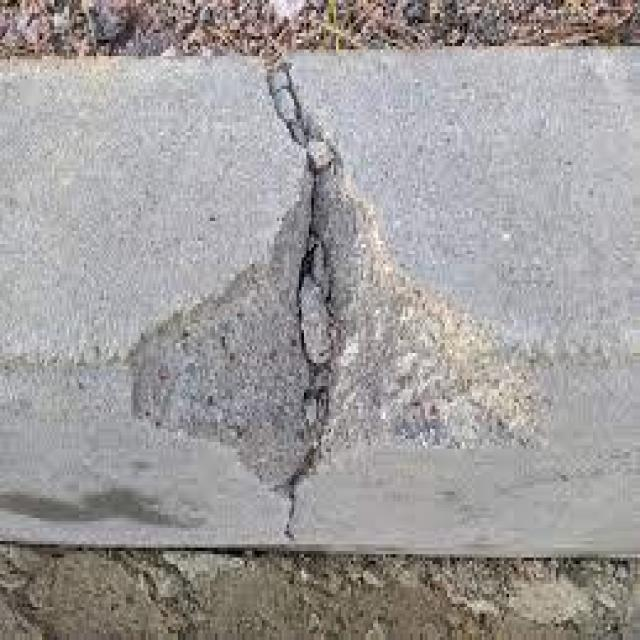curb: (7, 48, 639, 576)
